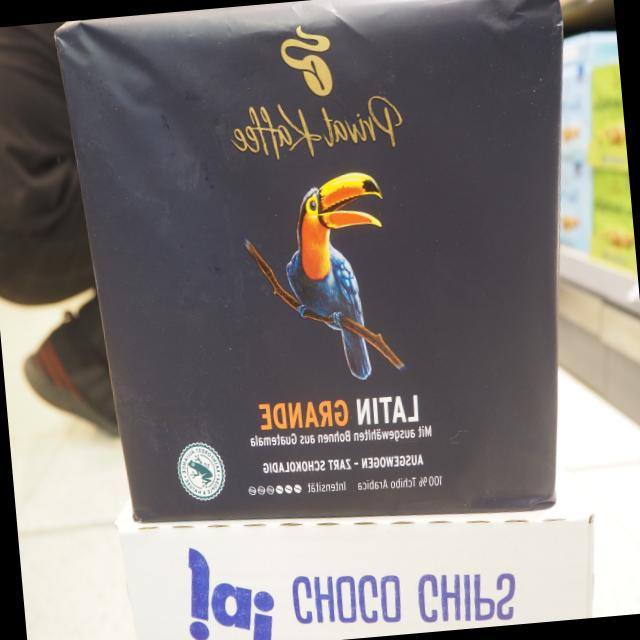LG Gemahlen: (48, 0, 567, 525)
